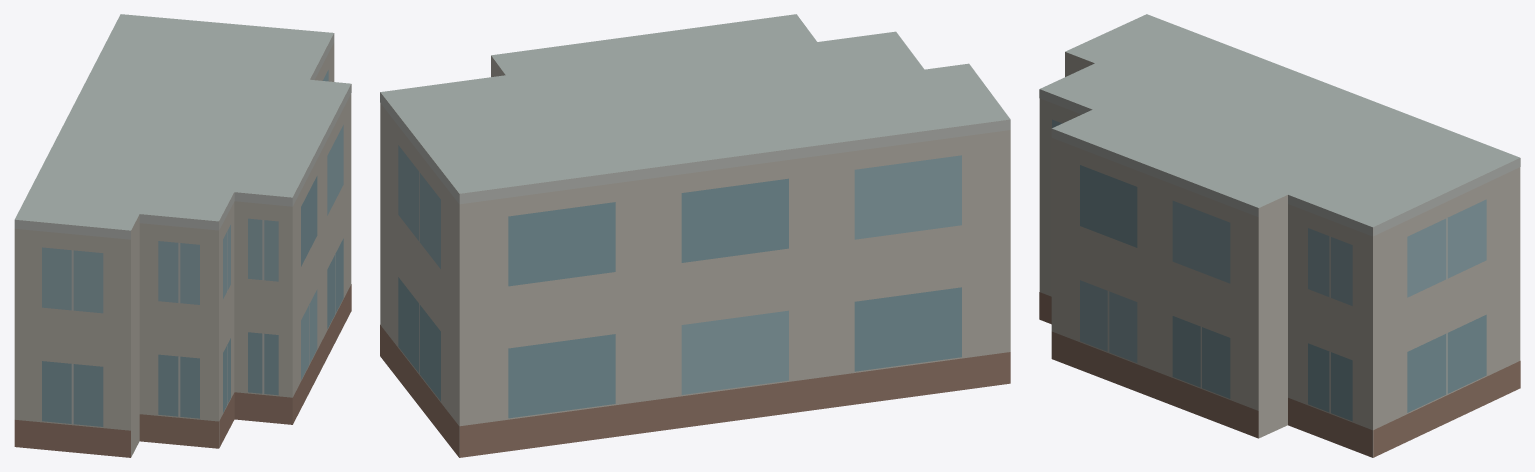
Rendered from survey-upis-32810050.glb.
3 renders of one model, left to right at view 1: azimuth 30°, elevation 25°; view 2: azimuth 150°, elevation 25°; view 3: azimuth 270°, elevation 25°, orthographic. The views are drawn at different scales.
Parts seen in each view (by area): view 1: survey-upis-32810050.tmp; view 2: survey-upis-32810050.tmp; view 3: survey-upis-32810050.tmp.
Part boxes in pixels (left/top/right/bottom): survey-upis-32810050.tmp: left=14, top=14, right=351, bottom=457; survey-upis-32810050.tmp: left=380, top=14, right=1010, bottom=457; survey-upis-32810050.tmp: left=1039, top=14, right=1520, bottom=457.
Bounding box in the file's own units: 12.12 × 6.1 × 11.55.
